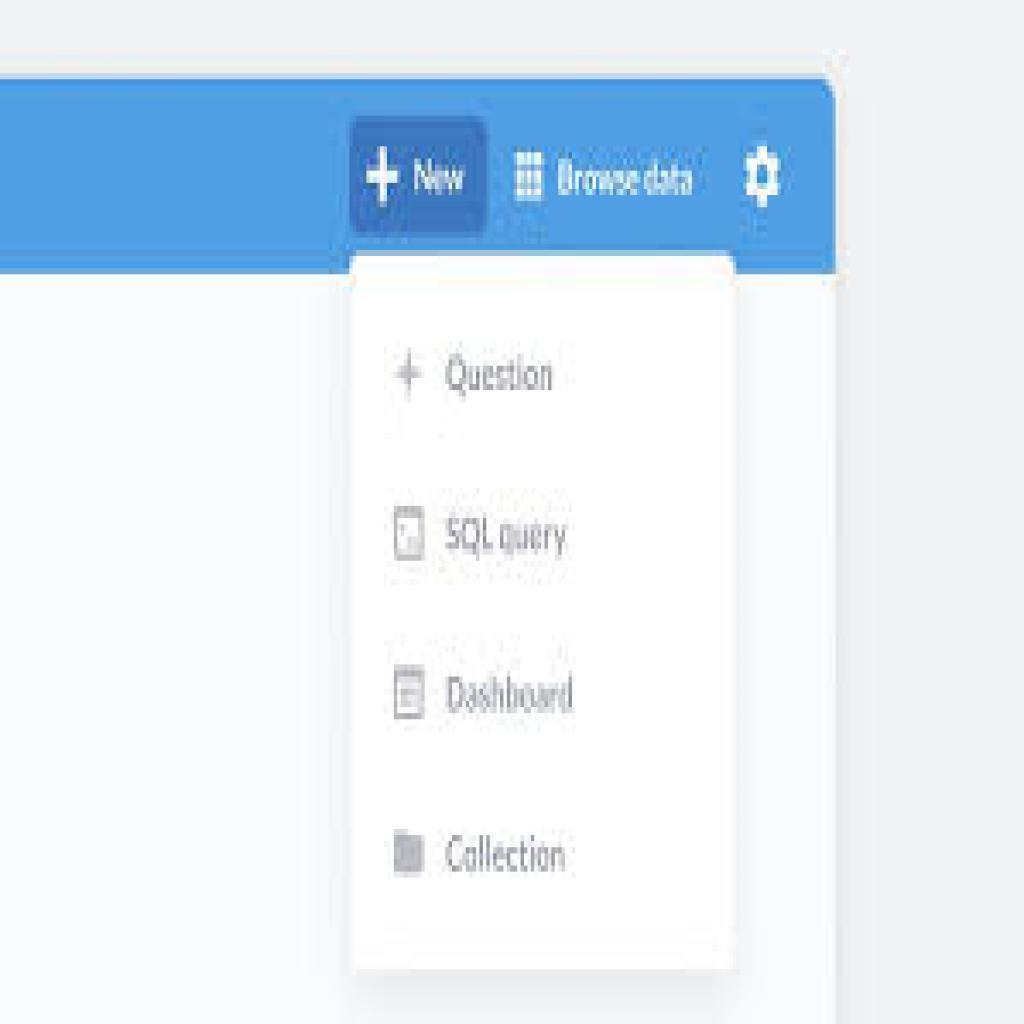icon: (734, 120, 792, 226), (388, 495, 431, 573), (386, 814, 431, 888), (388, 334, 430, 413), (388, 664, 427, 733)
label: (442, 506, 571, 565), (445, 670, 583, 717), (445, 348, 561, 403), (445, 832, 569, 883)
